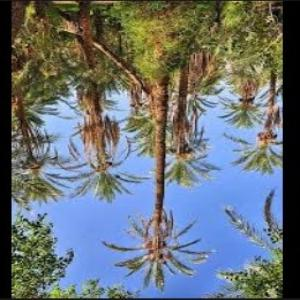palm tree: (10, 0, 282, 292)
